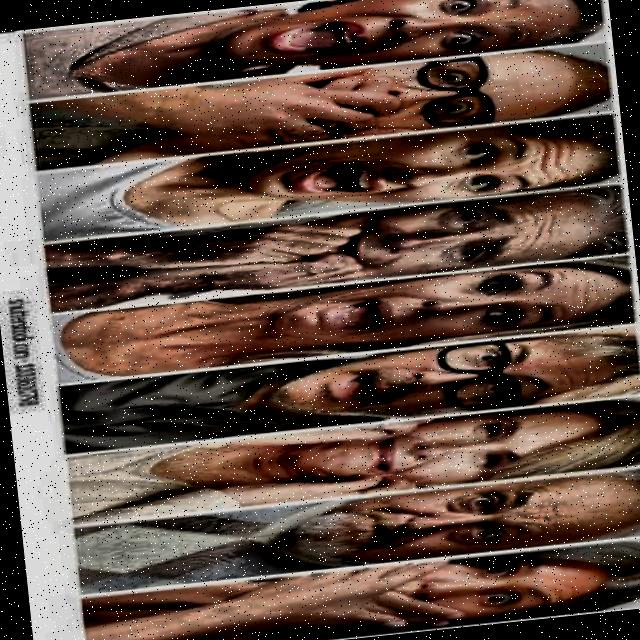fear: (131, 26, 609, 161), (233, 391, 640, 509), (230, 325, 640, 437), (218, 112, 616, 225), (223, 184, 629, 293), (256, 460, 640, 574), (226, 258, 630, 363), (254, 533, 640, 640)
